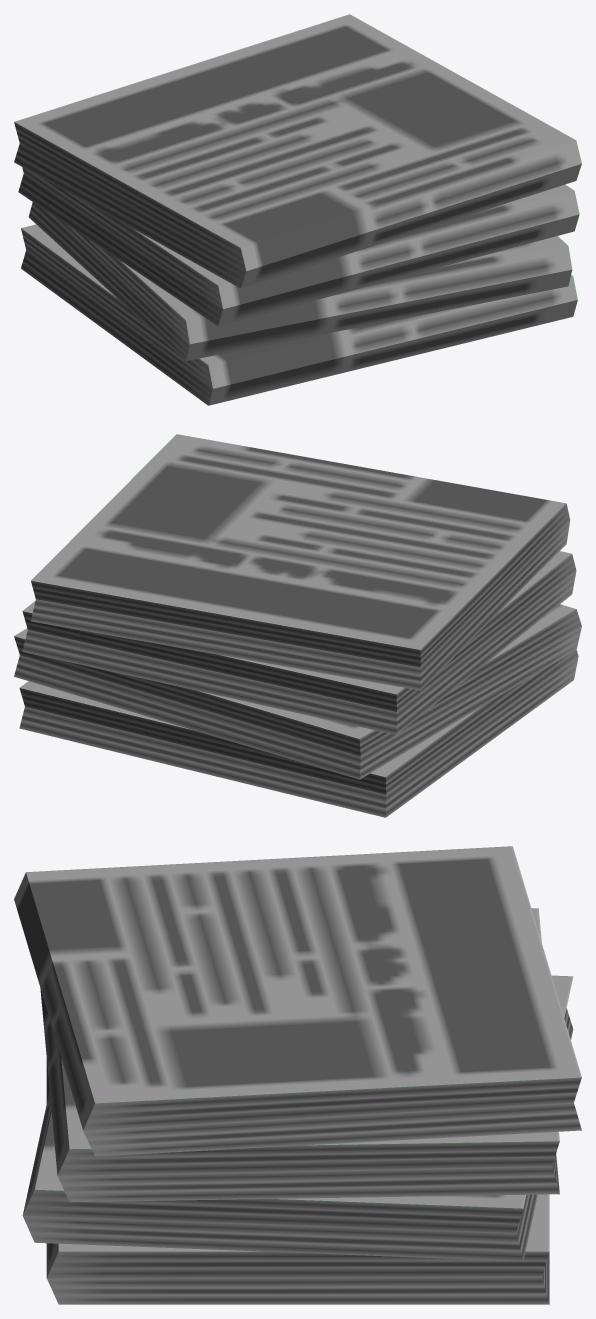
The model's file is SW_PROP_NewspaperStack.fbx.
3 renders of one model, top to bottom at view 1: azimuth 30°, elevation 25°; view 2: azimuth 150°, elevation 25°; view 3: azimuth 270°, elevation 25°, orthographic. The views are drawn at different scales.
Parts seen in each view (by area): view 1: SW_PROP_NewspaperStack; view 2: SW_PROP_NewspaperStack; view 3: SW_PROP_NewspaperStack.
Boxes of the visible parts, bbox=[...] form: SW_PROP_NewspaperStack: bbox=[14, 14, 581, 405]; SW_PROP_NewspaperStack: bbox=[14, 434, 581, 817]; SW_PROP_NewspaperStack: bbox=[14, 846, 581, 1304].
Bounding box in the file's own units: 44.25 × 16.97 × 41.19.
